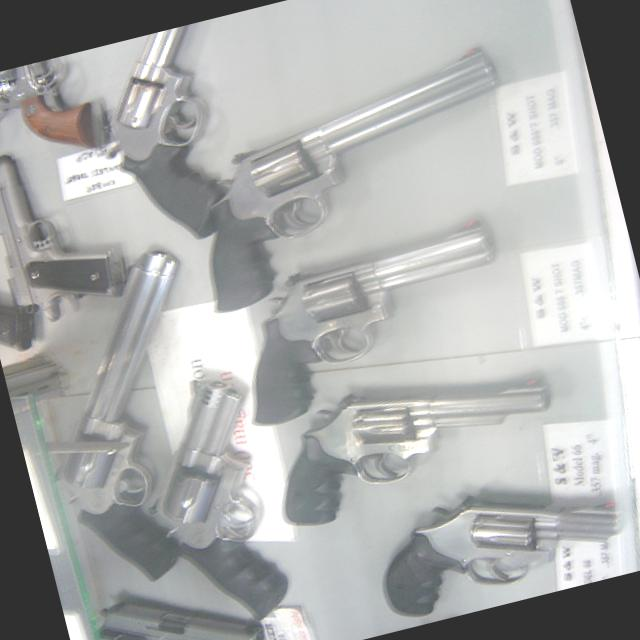handgun: (162, 32, 545, 318), (3, 242, 245, 596), (215, 222, 527, 432), (255, 343, 572, 530), (126, 368, 296, 638), (364, 462, 627, 628), (84, 28, 230, 256), (0, 129, 130, 330)
